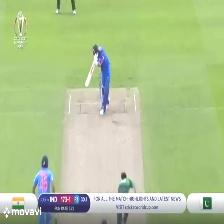batsman: (84, 43, 116, 116)
